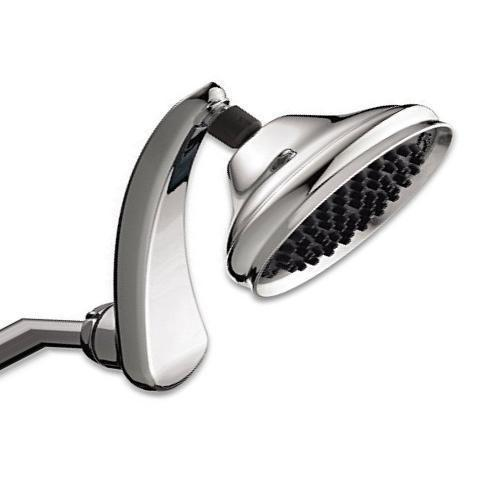Ducha: (0, 48, 478, 407)
